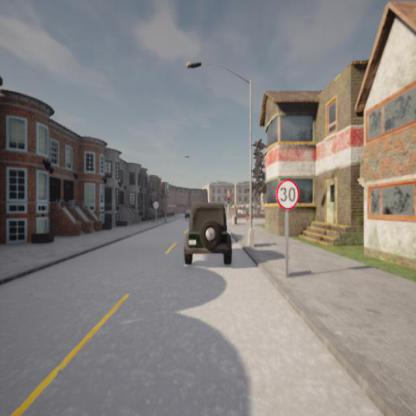traffic_sign_30: (276, 179, 299, 210)
vehicle: (183, 203, 233, 266)
